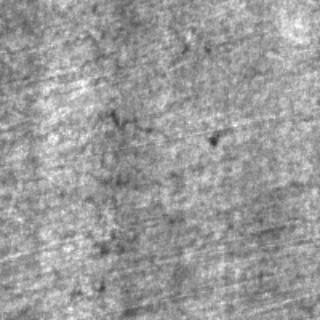crazing: (80, 90, 198, 214)
